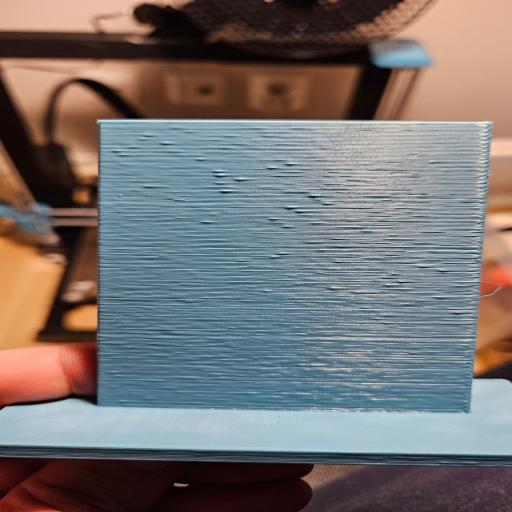blobs: (105, 125, 369, 215)
